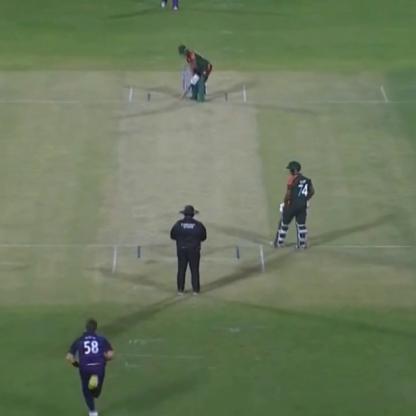bat: (181, 66, 200, 106)
pitch: (105, 82, 273, 286)
